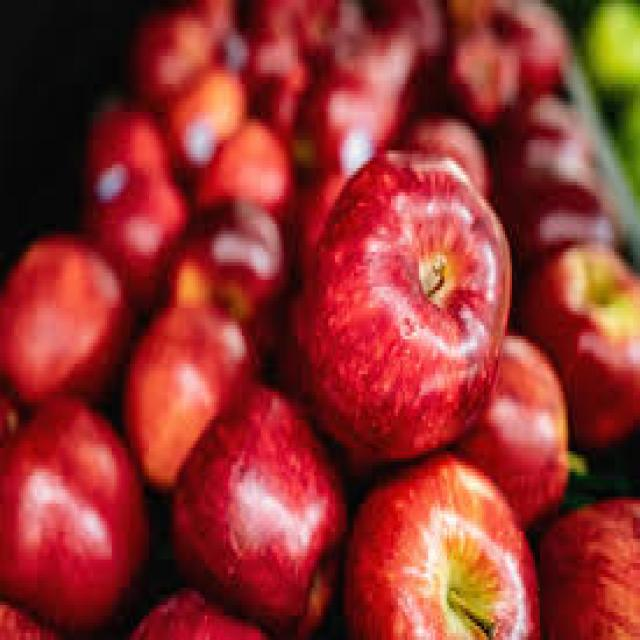organic waste: (298, 144, 507, 465), (168, 378, 344, 636), (342, 444, 538, 637), (0, 392, 147, 636), (121, 297, 263, 497), (514, 234, 638, 455), (0, 230, 130, 416), (454, 325, 568, 507), (168, 196, 288, 332), (307, 24, 419, 164), (79, 154, 191, 290), (540, 500, 638, 637), (491, 164, 621, 248), (186, 108, 291, 210), (494, 133, 600, 231), (293, 60, 384, 172), (163, 63, 247, 171), (402, 105, 487, 203), (128, 580, 272, 636), (444, 14, 516, 126), (493, 87, 598, 161), (130, 3, 212, 91), (288, 161, 354, 262), (498, 0, 570, 87), (579, 0, 637, 101), (248, 0, 358, 52), (81, 94, 168, 158), (266, 280, 310, 395), (246, 60, 302, 136), (377, 0, 440, 63), (230, 28, 305, 73), (0, 594, 63, 636), (193, 0, 233, 63), (619, 101, 638, 192), (442, 0, 503, 28)
